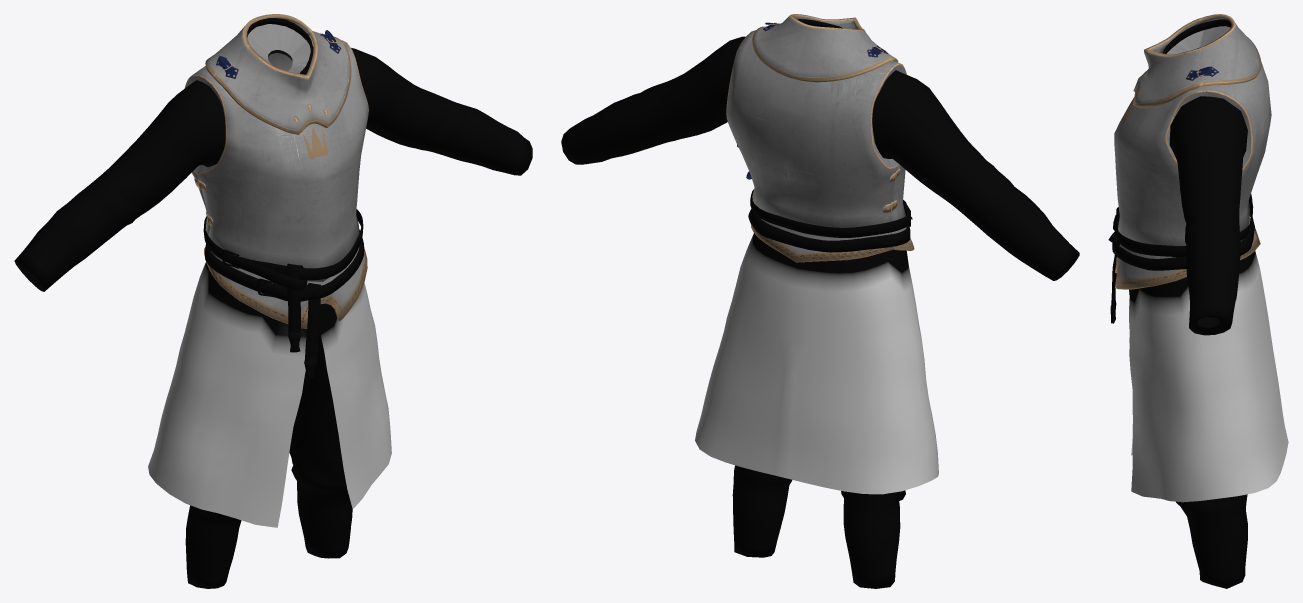
The model's file is swan_knight_armor_2b_t1.fbx.
The picture shows the model from 3 angles, left to right: view 1: azimuth 30°, elevation 25°; view 2: azimuth 150°, elevation 25°; view 3: azimuth 270°, elevation 25°; orthographic projection. The views are drawn at different scales.
Parts seen in each view (by area): view 1: swan_knight_armor_2b_t1.0, swan_knight_armor_2b_t1.1; view 2: swan_knight_armor_2b_t1.0, swan_knight_armor_2b_t1.1; view 3: swan_knight_armor_2b_t1.0, swan_knight_armor_2b_t1.1.
Part boxes in pixels (left/top/right/bottom): swan_knight_armor_2b_t1.0: left=14, top=18, right=532, bottom=588; swan_knight_armor_2b_t1.1: left=184, top=14, right=368, bottom=328; swan_knight_armor_2b_t1.0: left=561, top=19, right=1079, bottom=588; swan_knight_armor_2b_t1.1: left=726, top=14, right=914, bottom=262; swan_knight_armor_2b_t1.0: left=1108, top=19, right=1288, bottom=588; swan_knight_armor_2b_t1.1: left=1114, top=14, right=1271, bottom=289.
Size of the model in its own units: 1.34 by 0.424 by 1.38.
